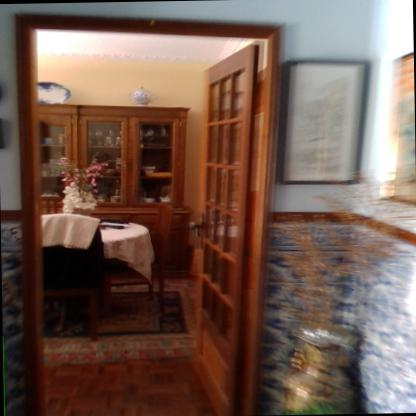open: (3, 1, 300, 415)
